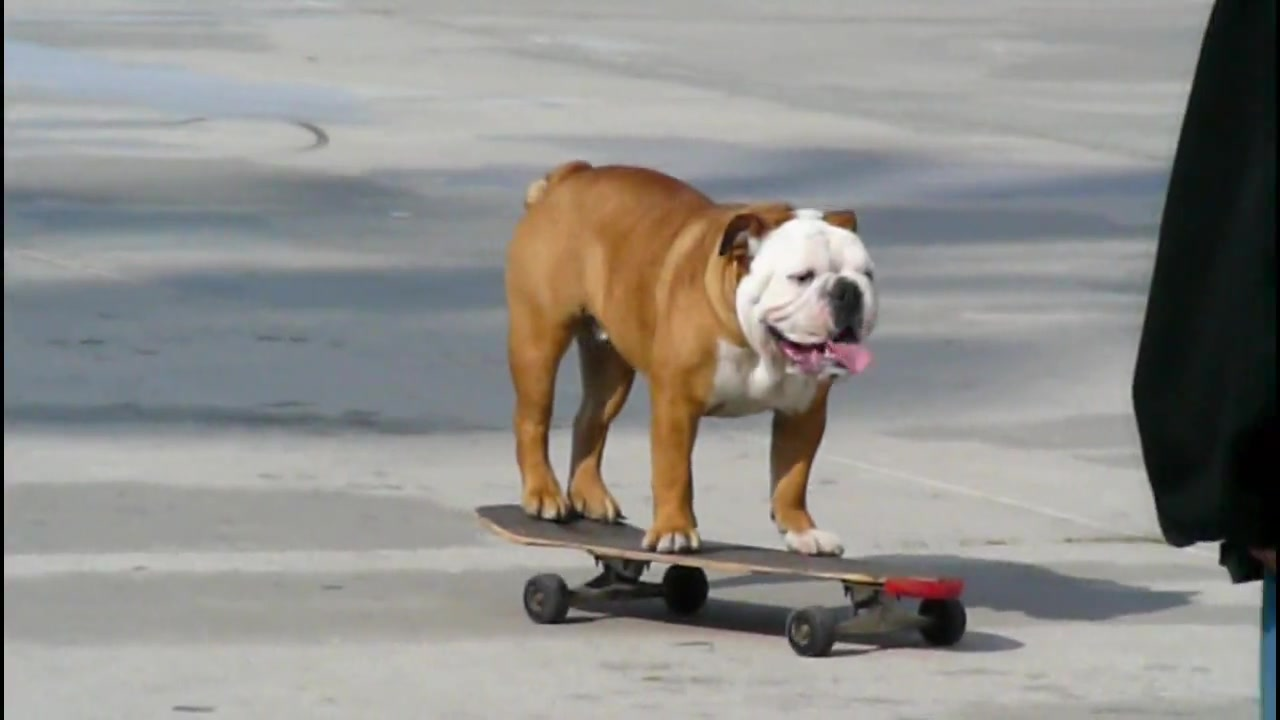dog: (495, 161, 884, 563)
